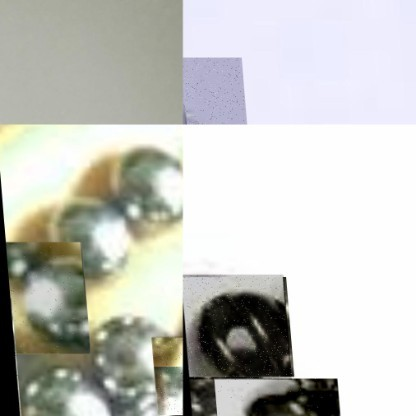ironball: (182, 274, 286, 379), (2, 242, 85, 354), (109, 140, 182, 249), (41, 185, 132, 271), (10, 358, 130, 415), (83, 309, 169, 380), (209, 378, 335, 415), (147, 336, 182, 415), (6, 298, 15, 415)
